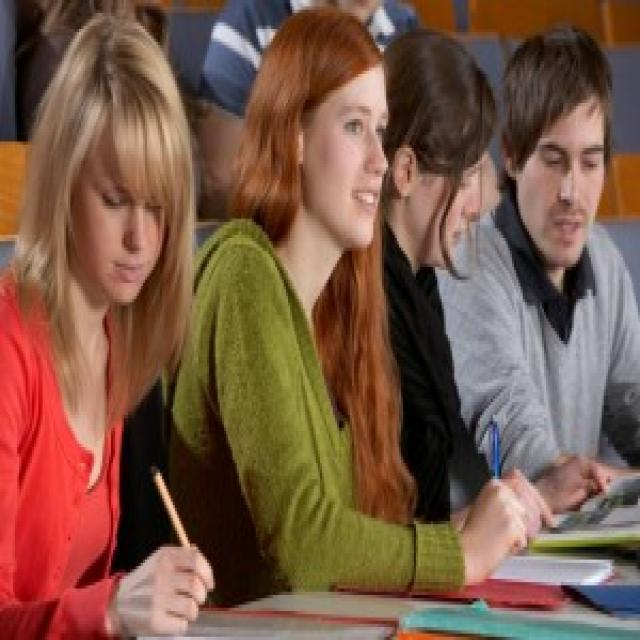Looking away: (72, 123, 168, 304), (520, 96, 608, 264), (391, 136, 484, 270)
Looking forward: (298, 63, 389, 254)
